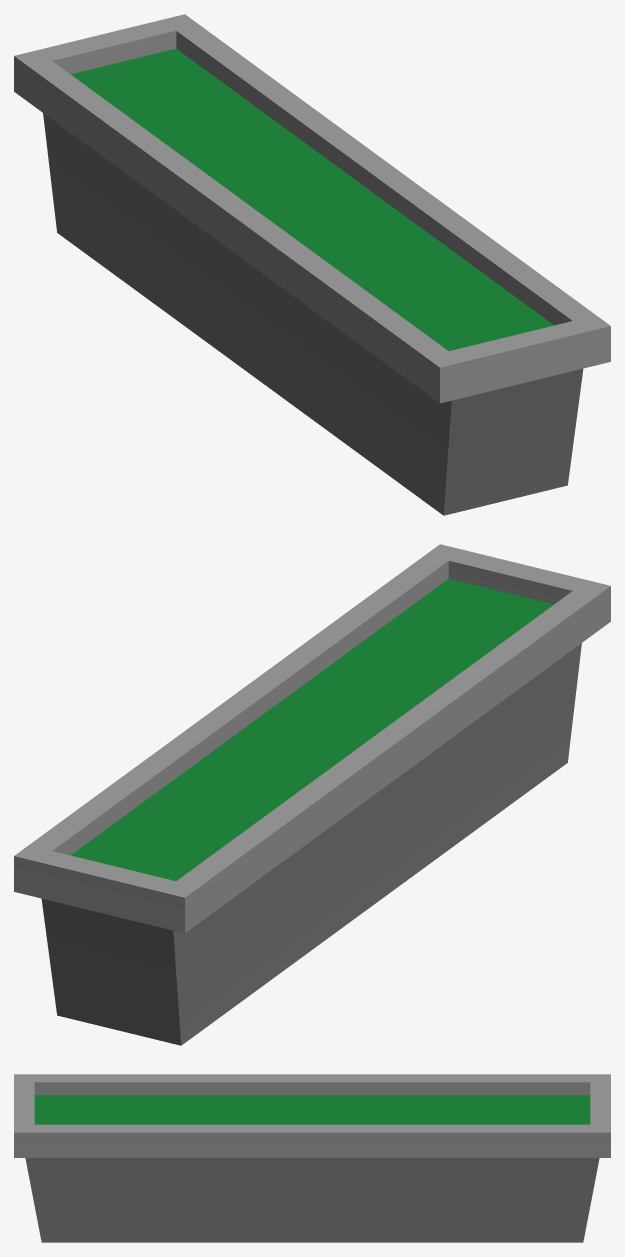
File: FlowerPot_5_1_F.fbx
3 views of the same model, one above another, from view 1: azimuth 30°, elevation 25°; view 2: azimuth 150°, elevation 25°; view 3: azimuth 270°, elevation 25° (orthographic). The views are drawn at different scales.
Visible parts, largest first — view 1: FlowerPot_5_1_F; view 2: FlowerPot_5_1_F; view 3: FlowerPot_5_1_F.
Part boxes in pixels (x1=…): FlowerPot_5_1_F: x1=14, y1=14, x2=610, y2=515; FlowerPot_5_1_F: x1=14, y1=544, x2=610, y2=1045; FlowerPot_5_1_F: x1=14, y1=1074, x2=610, y2=1242.
Bounding box in the file's own units: 32.46 × 30.52 × 140.
